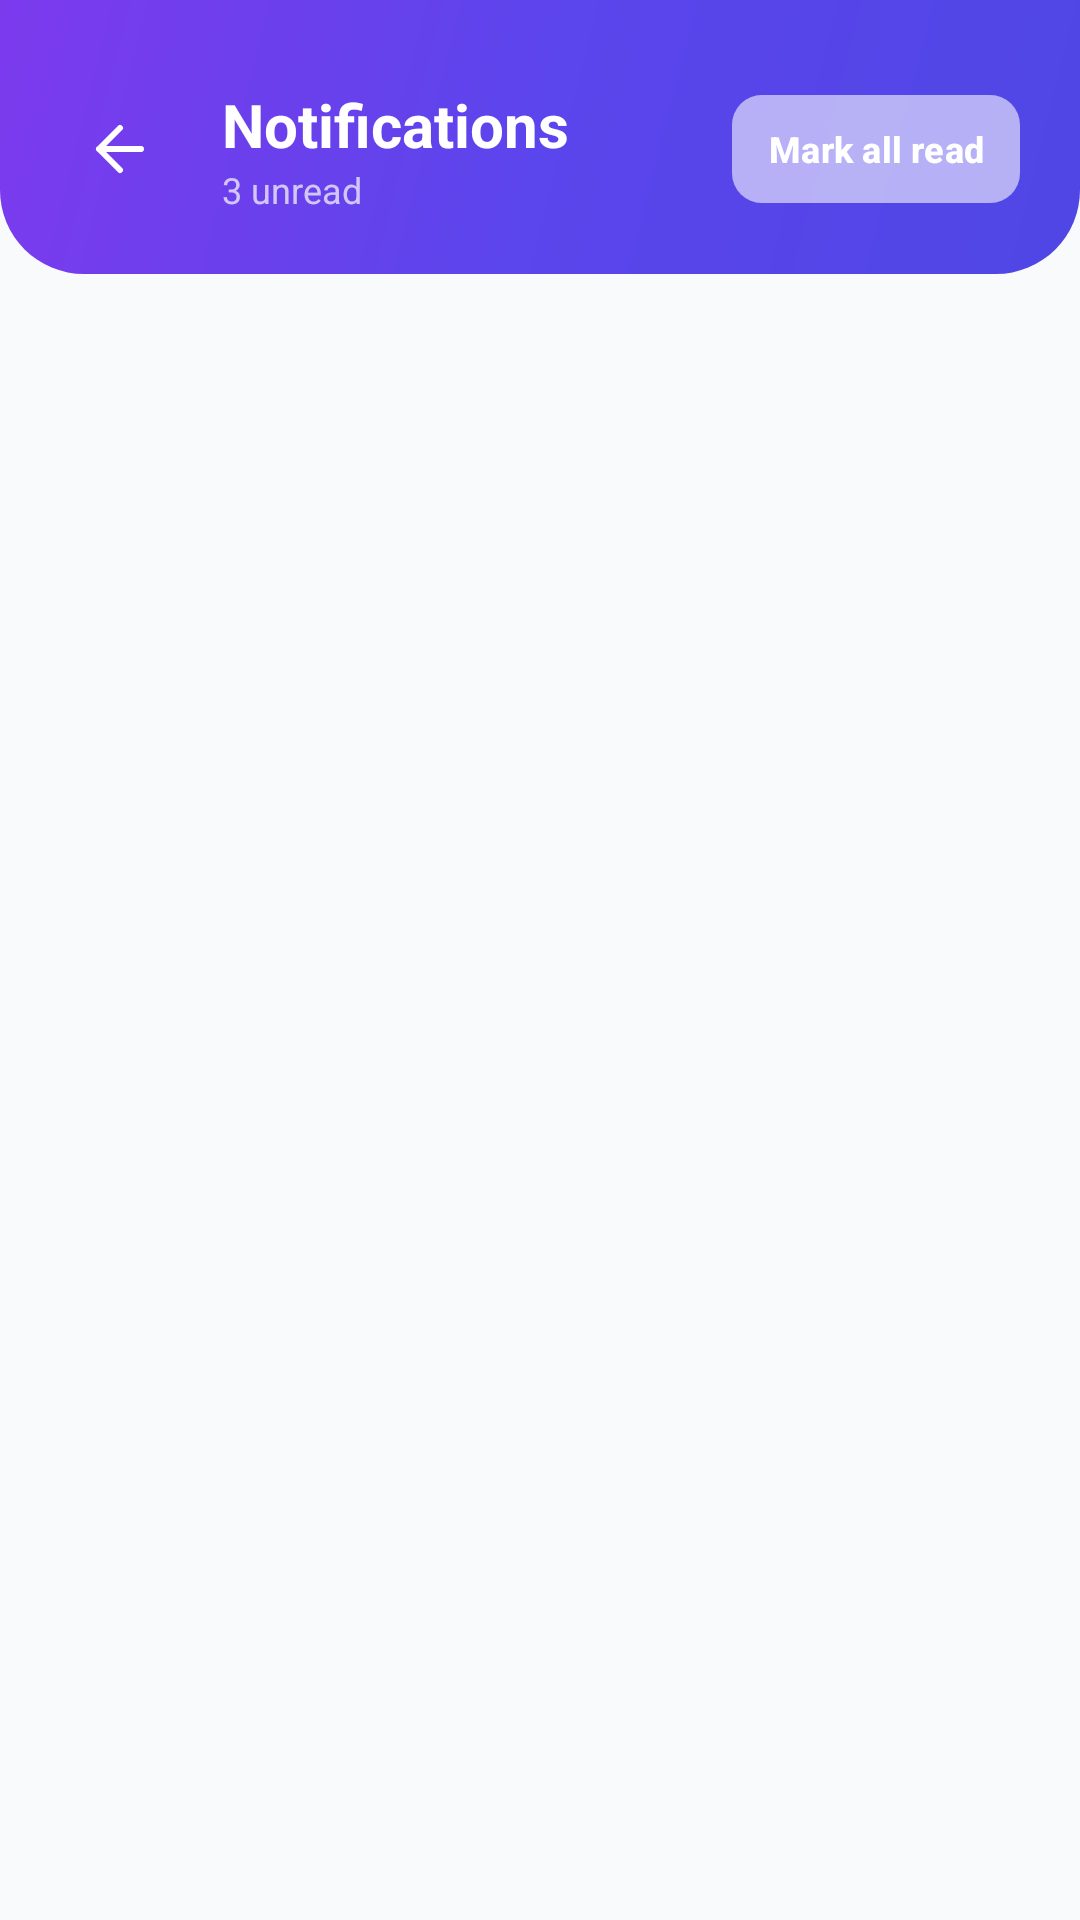

Icons on this 1080×1920 Android screen, each with its box as (x1, y1, x2, y2):
back: (96, 125, 144, 173)
